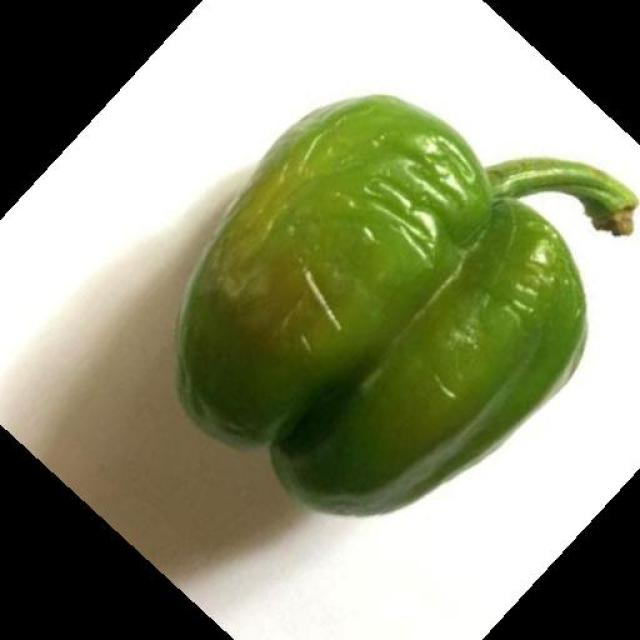Stale_Capsicum: (174, 92, 579, 479)
